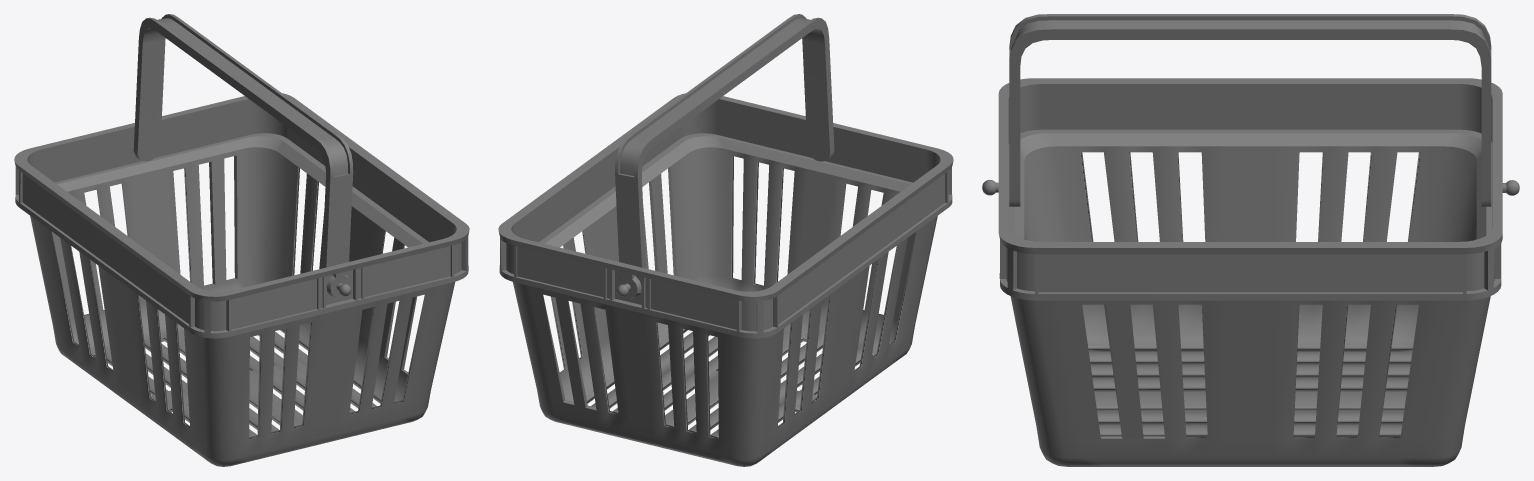
3 views of the same model, side by side, from view 1: azimuth 30°, elevation 25°; view 2: azimuth 150°, elevation 25°; view 3: azimuth 270°, elevation 25° (orthographic). The views are drawn at different scales.
Parts seen in each view (by area): view 1: Cart8, Handle; view 2: Cart8, Handle; view 3: Cart8, Handle.
Part boxes in pixels (bbox=[...]): Cart8: bbox=[14, 93, 469, 466]; Handle: bbox=[133, 14, 353, 268]; Cart8: bbox=[498, 93, 953, 466]; Handle: bbox=[615, 14, 834, 268]; Cart8: bbox=[982, 78, 1519, 466]; Handle: bbox=[1009, 14, 1491, 206].
Bounding box in the file's own units: 0.0872 × 0.0929 × 0.1166.
Materials: 1 (1 with a texture image).
